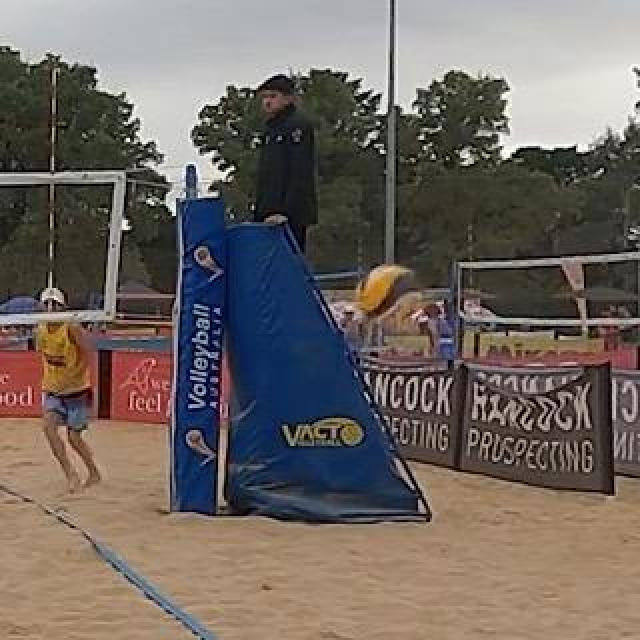volleyball: (358, 263, 420, 325)
